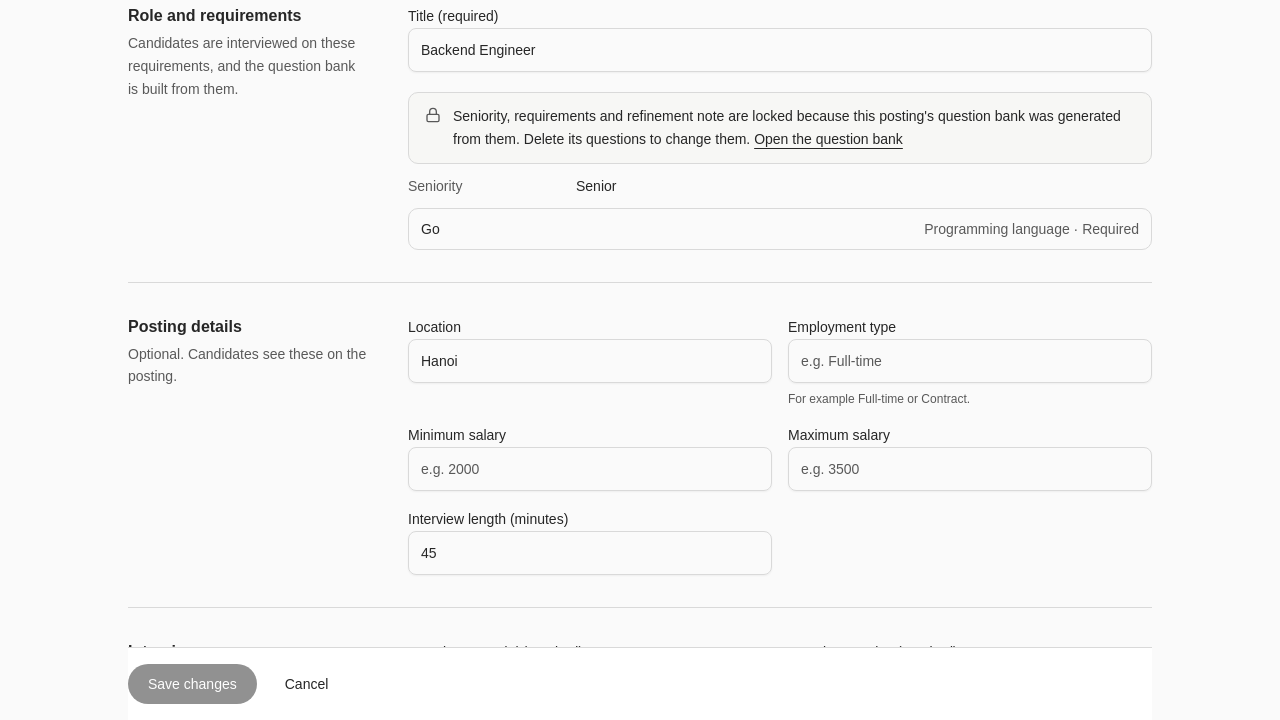
Test case: JobPostingDetail › refreshes when the server says the posting changed
(page scrolled)
Step 1. Replace the text in the field labelled "Location" with "Hue" → (590, 360), box [408,338,772,382]
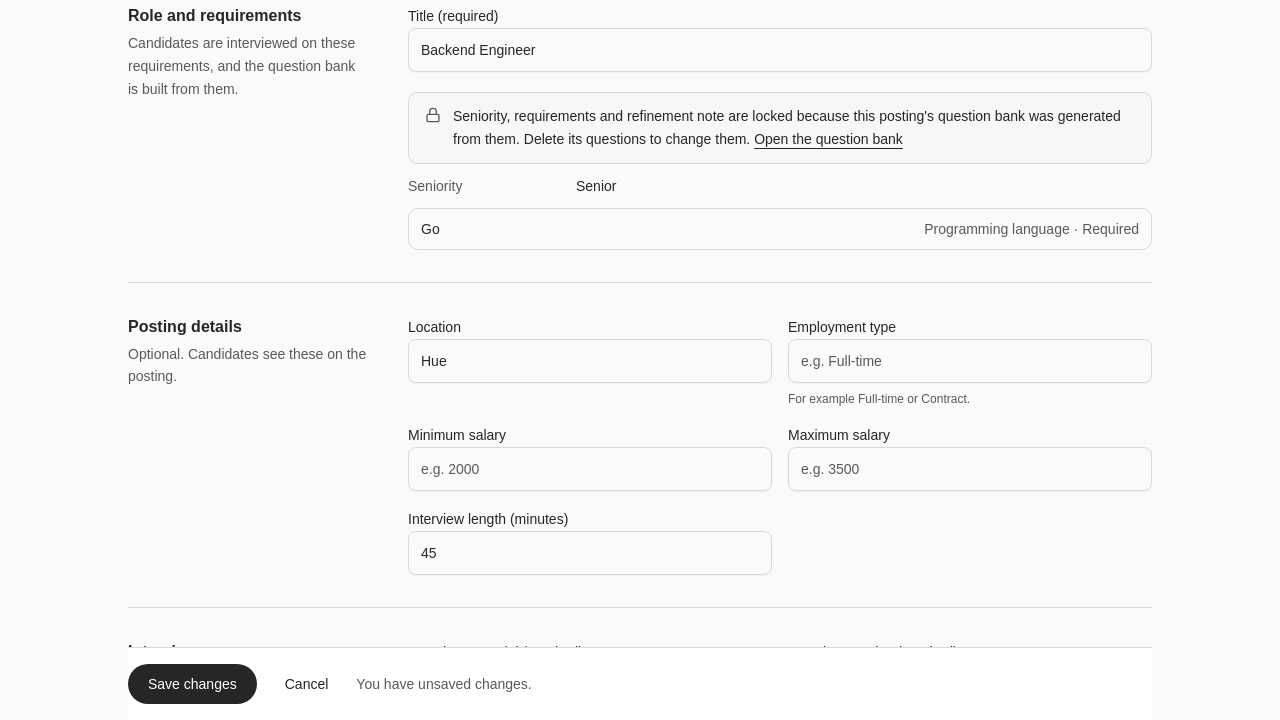
Step 2. Click the button "Save changes" → (192, 684), box [128,664,257,704]
(page scrolled)
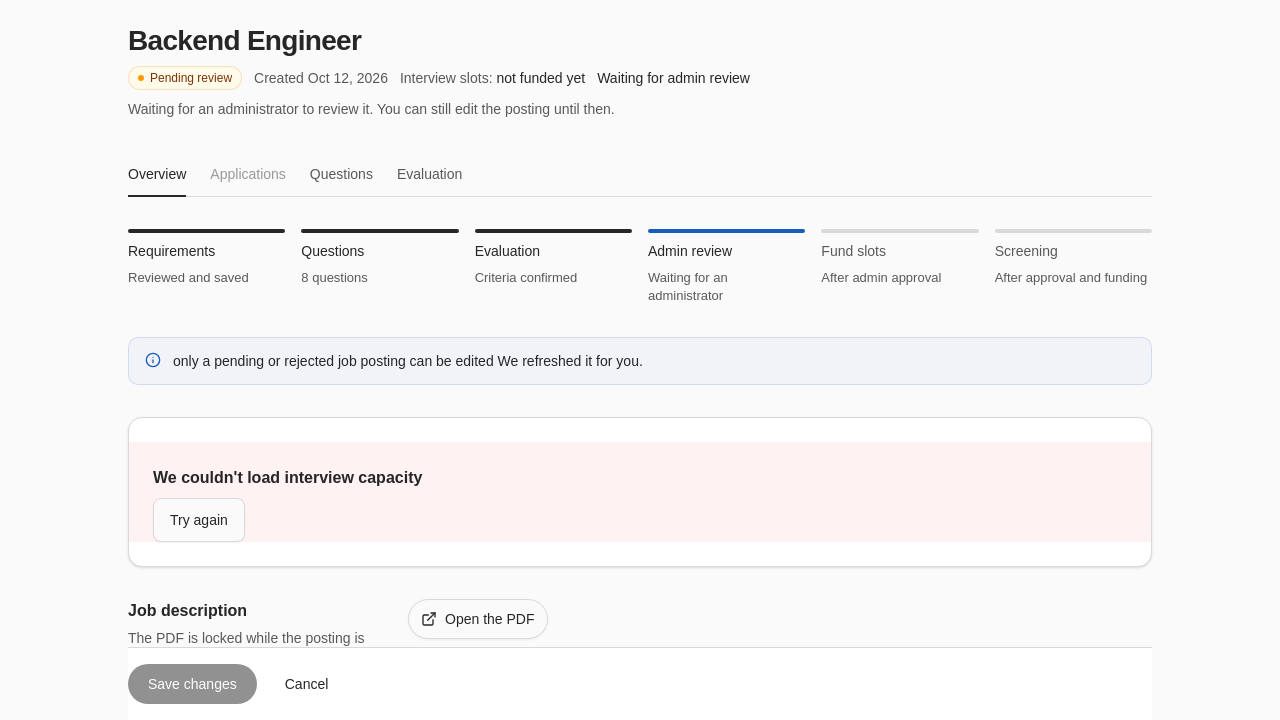
Expected: the text "only a pending or rejected job posting can be edited We refreshed it for you." is shown, [173,350,643,372]
